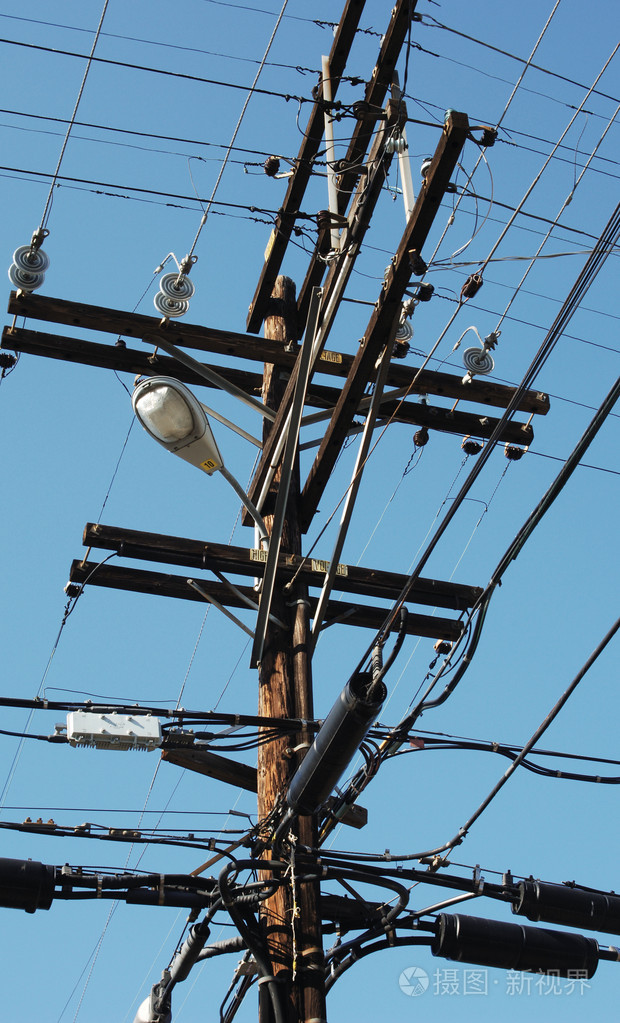insulator: (152, 271, 195, 318), (7, 244, 48, 291)
